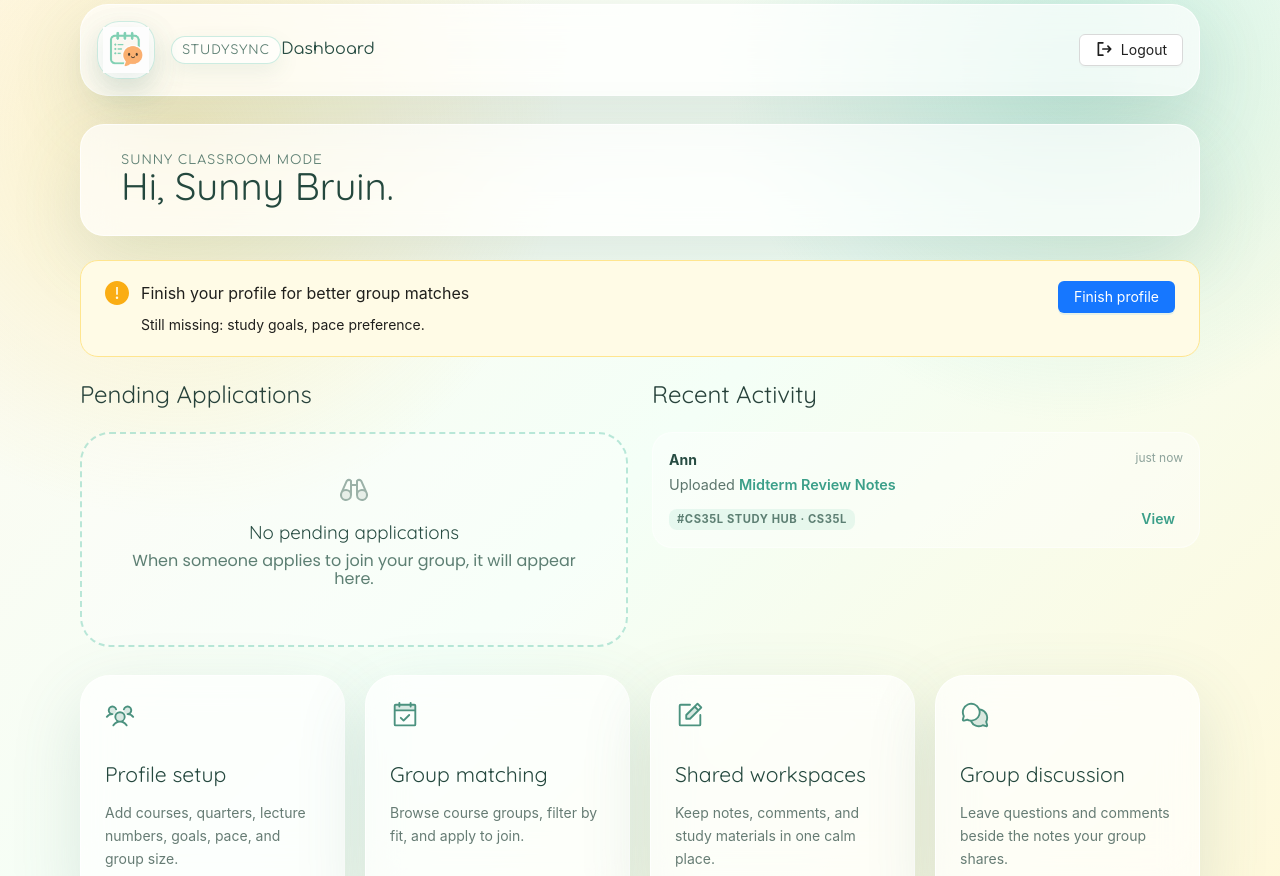
DashboardPage › opens shared workspace from an uploaded-document activity
The width and height of the screenshot is (1280, 876).
Click the button with aria-label "View Midterm Review Notes": coordinates (1158, 519) [1133,507,1183,531]
(page scrolled)
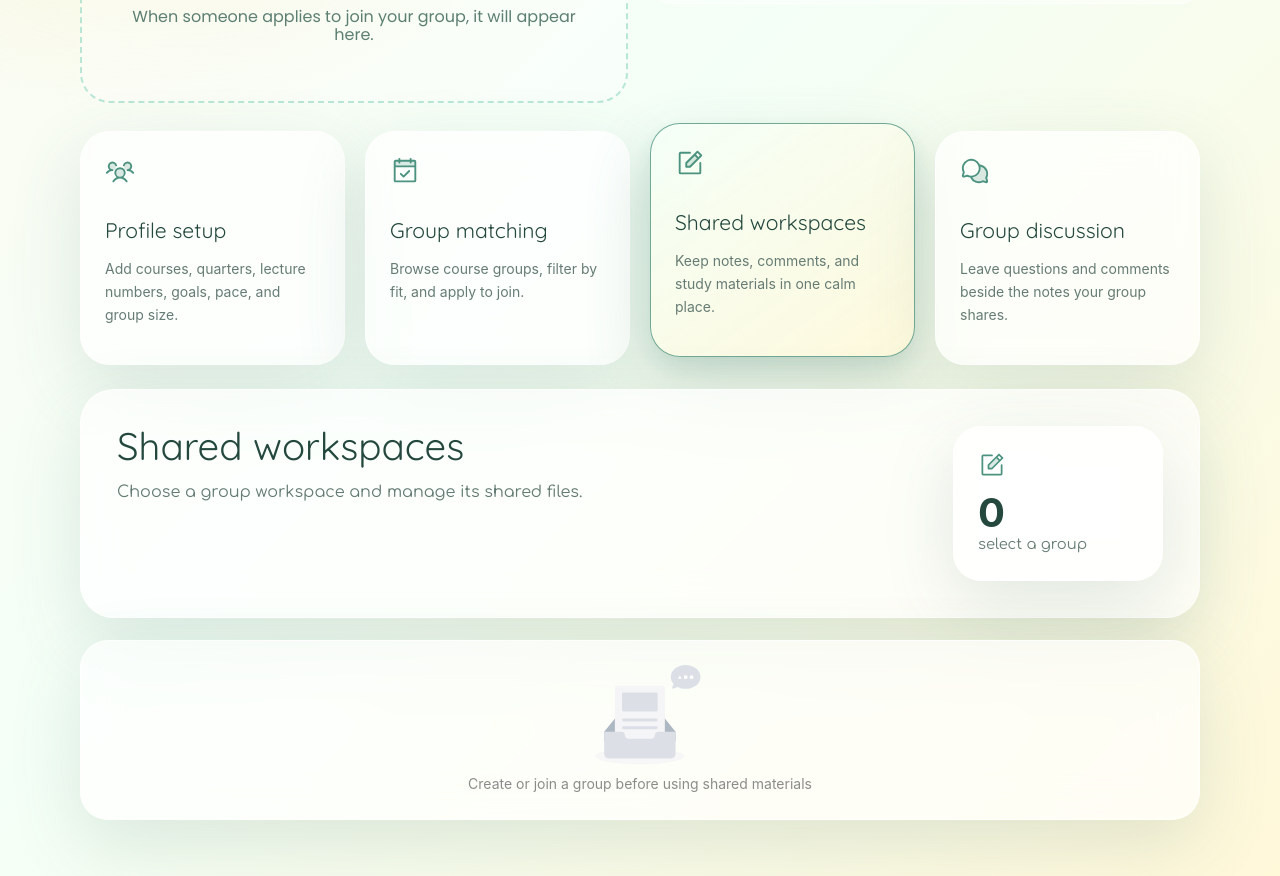
Now the element with class "workspace-shell" shows "Shared workspaces", box [117,422,464,470]
